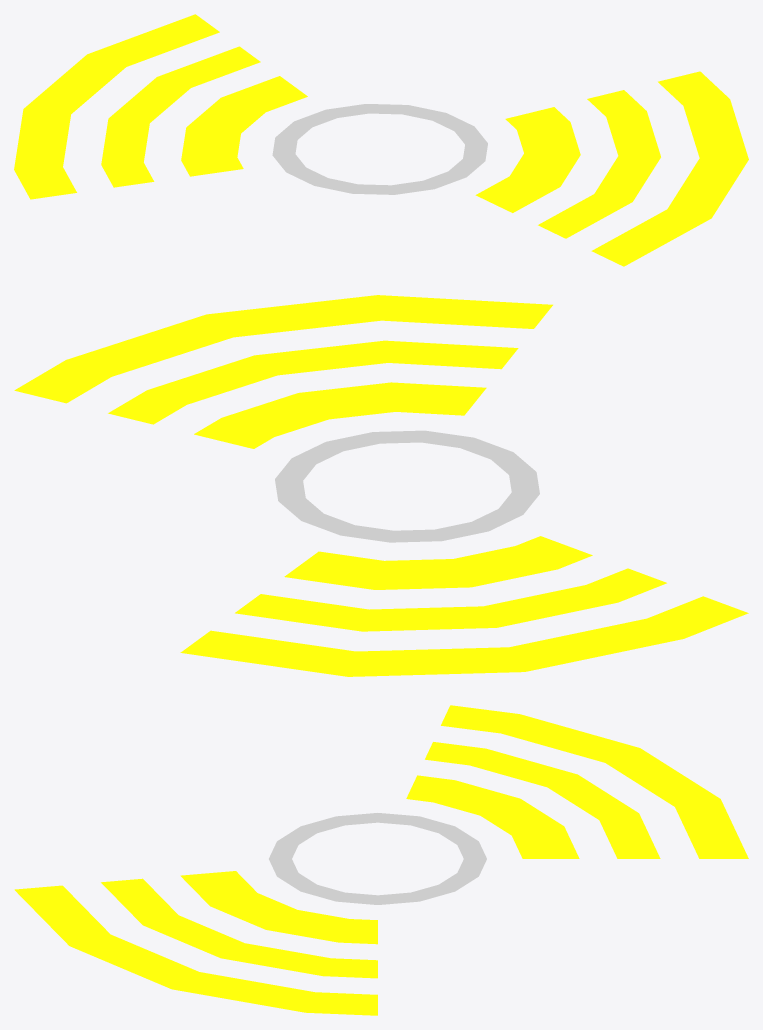
File: DJRythem.fbx
3 renders of one model, top to bottom at view 1: azimuth 30°, elevation 25°; view 2: azimuth 150°, elevation 25°; view 3: azimuth 270°, elevation 25°, orthographic. The views are drawn at different scales.
Visible parts, largest first — view 1: Cube.332.frozen.004; view 2: Cube.332.frozen.004; view 3: Cube.332.frozen.004.
Boxes of the visible parts, <box> form: Cube.332.frozen.004: <box>14,14,748,266</box>; Cube.332.frozen.004: <box>14,295,748,676</box>; Cube.332.frozen.004: <box>14,705,748,1015</box>.
Bounding box in the file's own units: 38.16 × 2.88e-06 × 38.16.
